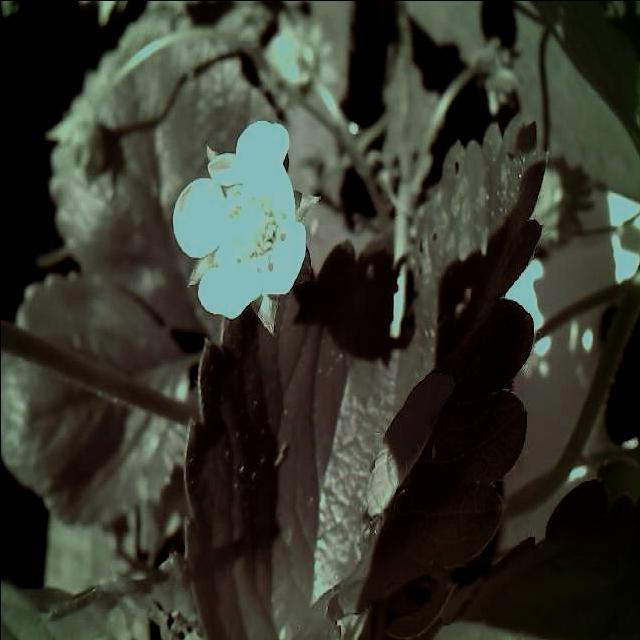flower: (167, 117, 309, 321)
